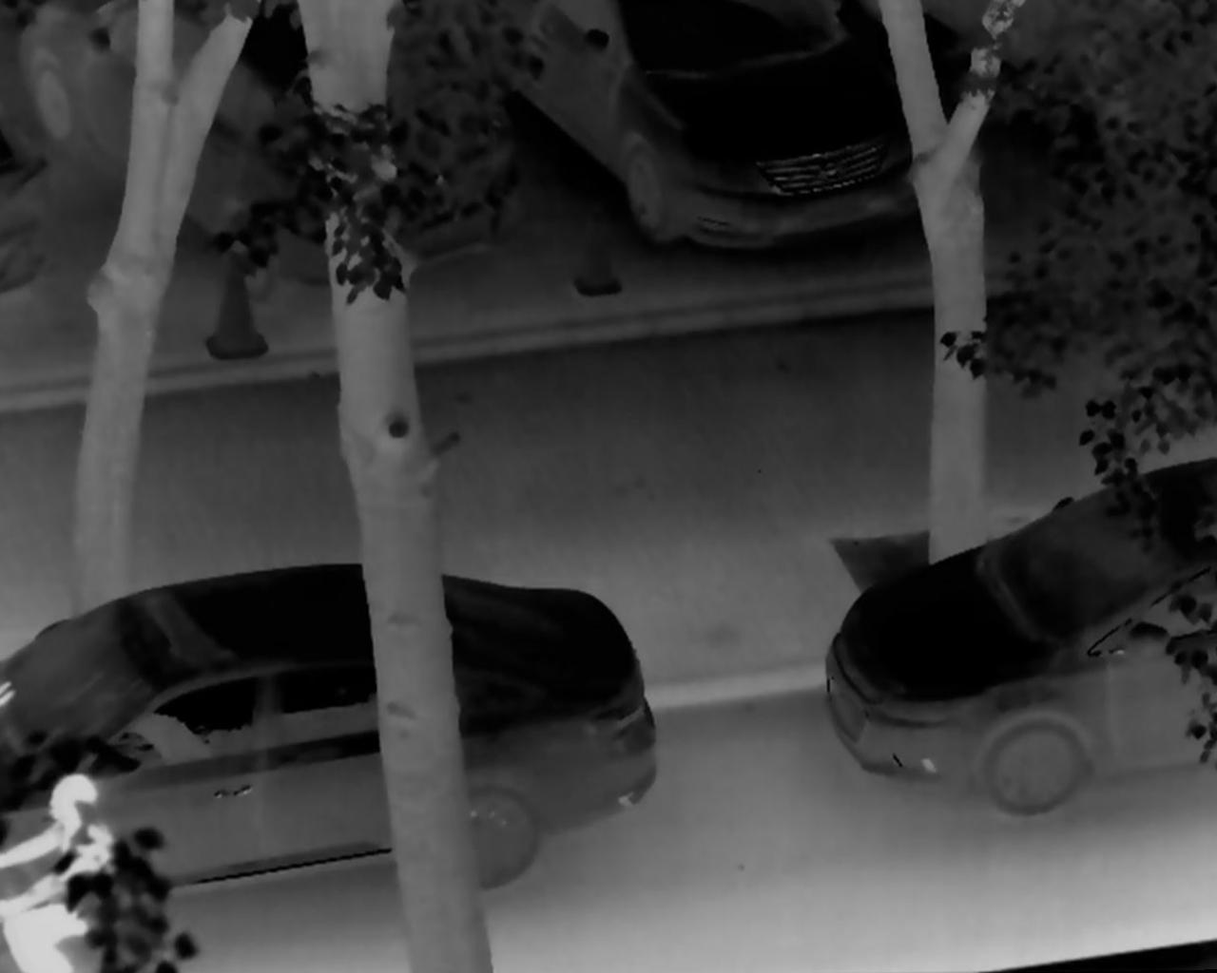person: (4, 768, 125, 973)
